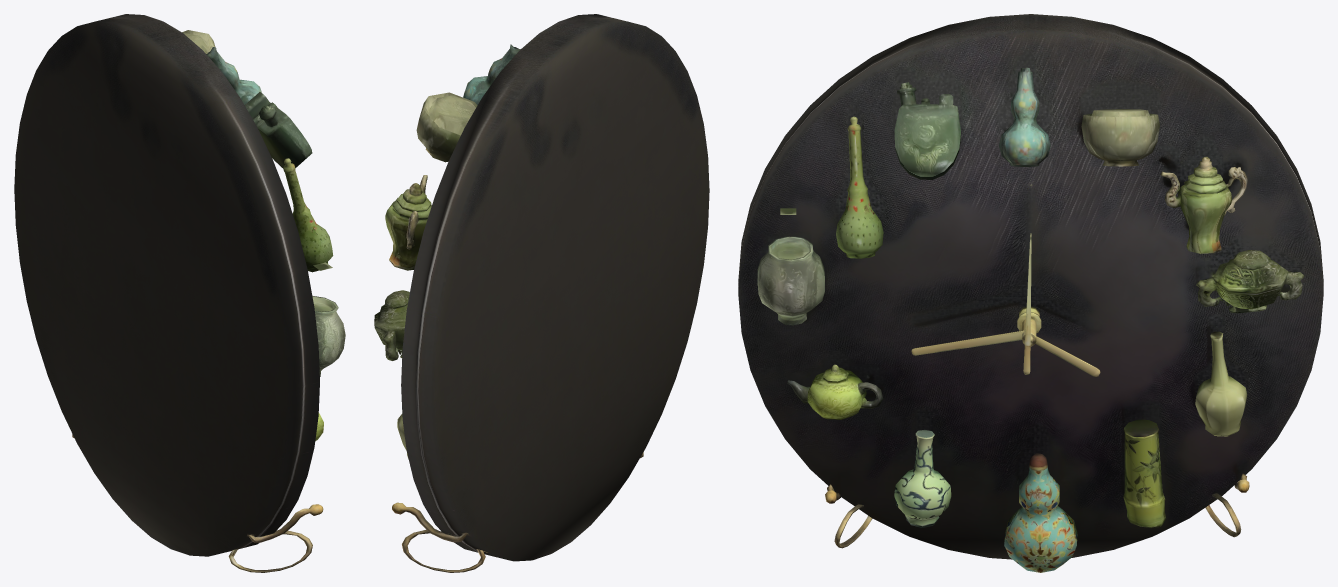
File: 圆形时钟3d模型.glb
3 views of the same model, side by side, from view 1: azimuth 30°, elevation 25°; view 2: azimuth 150°, elevation 25°; view 3: azimuth 270°, elevation 25° (orthographic). The views are drawn at different scales.
Visible parts, largest first — view 1: tripo_3c94c290_d589_47f0_b9e9_6cf24f85bdf7; view 2: tripo_3c94c290_d589_47f0_b9e9_6cf24f85bdf7; view 3: tripo_3c94c290_d589_47f0_b9e9_6cf24f85bdf7.
Part boxes in pixels (bbox=[...]): tripo_3c94c290_d589_47f0_b9e9_6cf24f85bdf7: bbox=[14, 14, 345, 572]; tripo_3c94c290_d589_47f0_b9e9_6cf24f85bdf7: bbox=[374, 14, 709, 572]; tripo_3c94c290_d589_47f0_b9e9_6cf24f85bdf7: bbox=[738, 14, 1323, 572].
Size of the model in its own units: 0.2573 by 0.9995 by 0.9995.
1 material, 1 textured.
